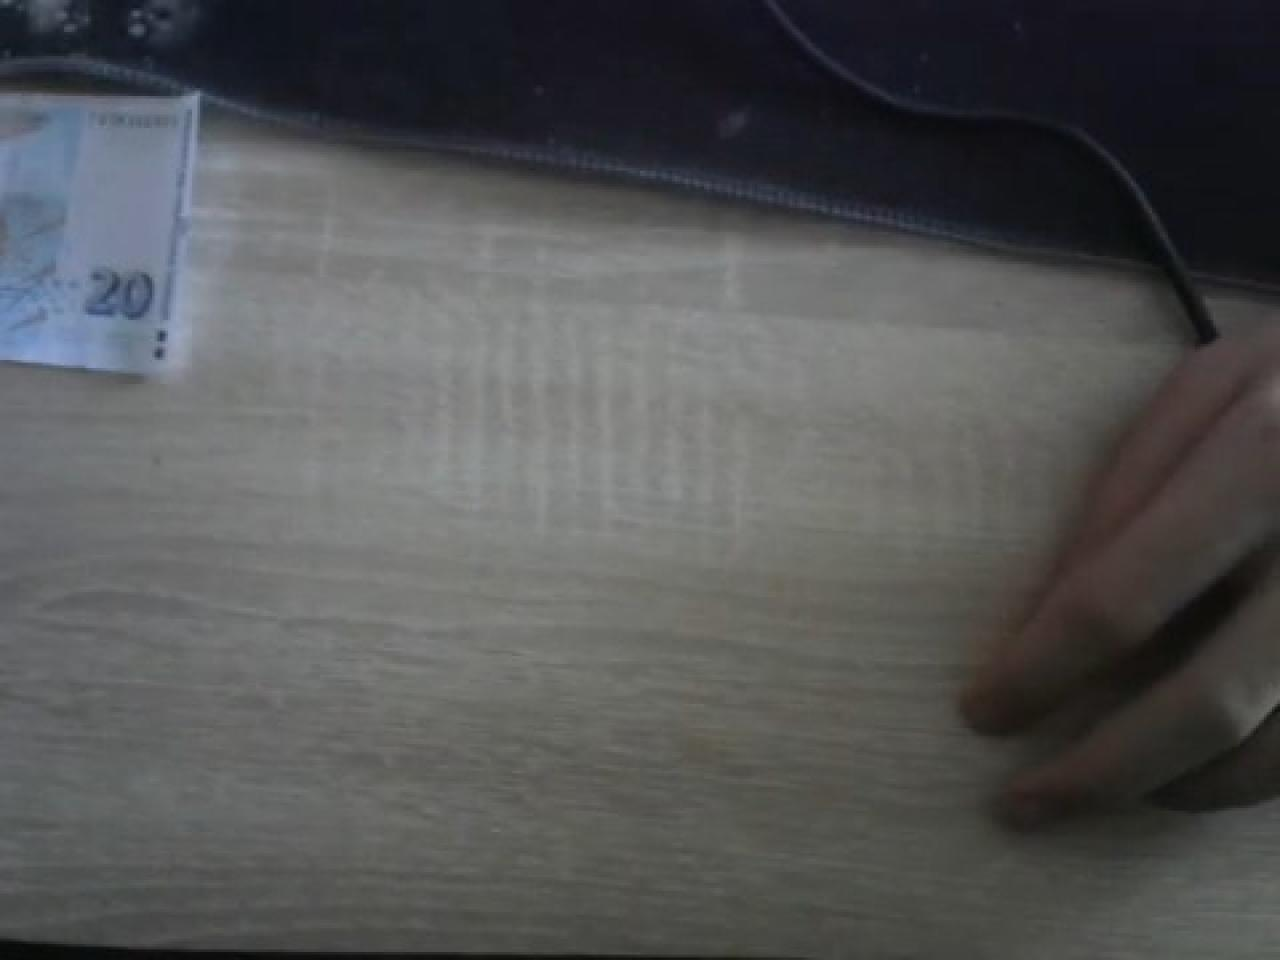20leva: (0, 61, 205, 384)
